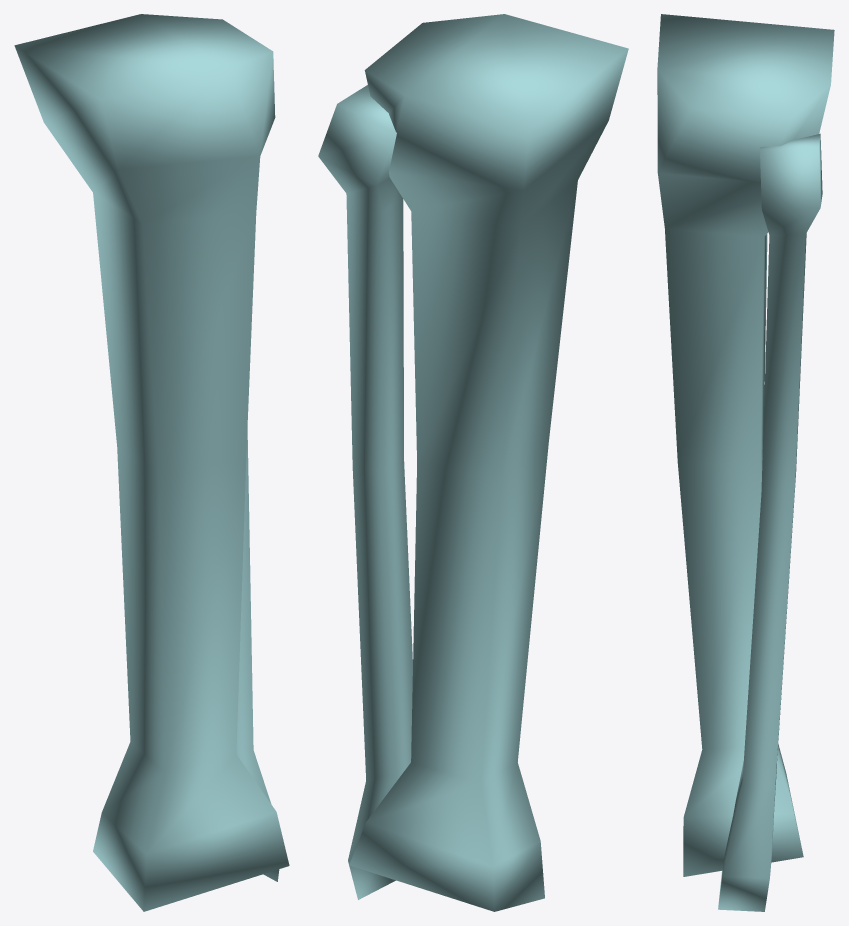
Rendered from Skelly_shin.L.fbx.
3 renders of one model, left to right at view 1: azimuth 30°, elevation 25°; view 2: azimuth 150°, elevation 25°; view 3: azimuth 270°, elevation 25°, orthographic. The views are drawn at different scales.
Parts seen in each view (by area): view 1: Skelly_shin.L; view 2: Skelly_shin.L; view 3: Skelly_shin.L.
Boxes of the visible parts, x1,y1,x2,y2 form: Skelly_shin.L: [14, 14, 289, 911]; Skelly_shin.L: [318, 14, 628, 911]; Skelly_shin.L: [657, 14, 834, 911].
Size of the model in its own units: 11.12 by 40.96 by 8.19.
